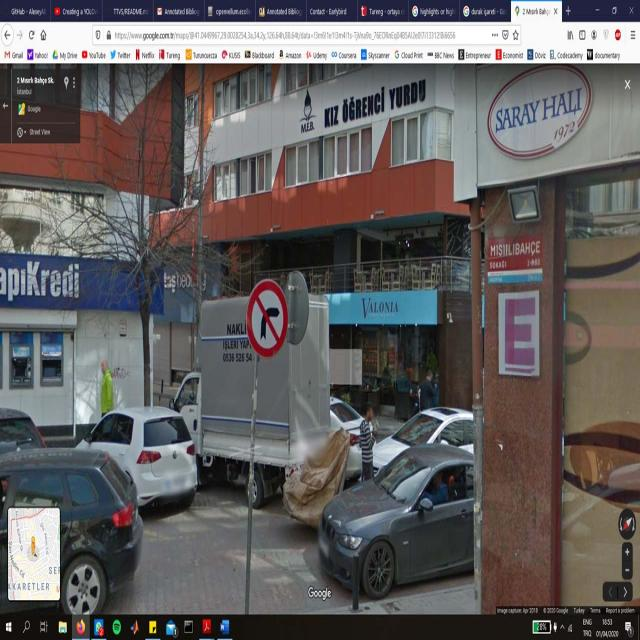sagadonulmez: (246, 279, 288, 356)
